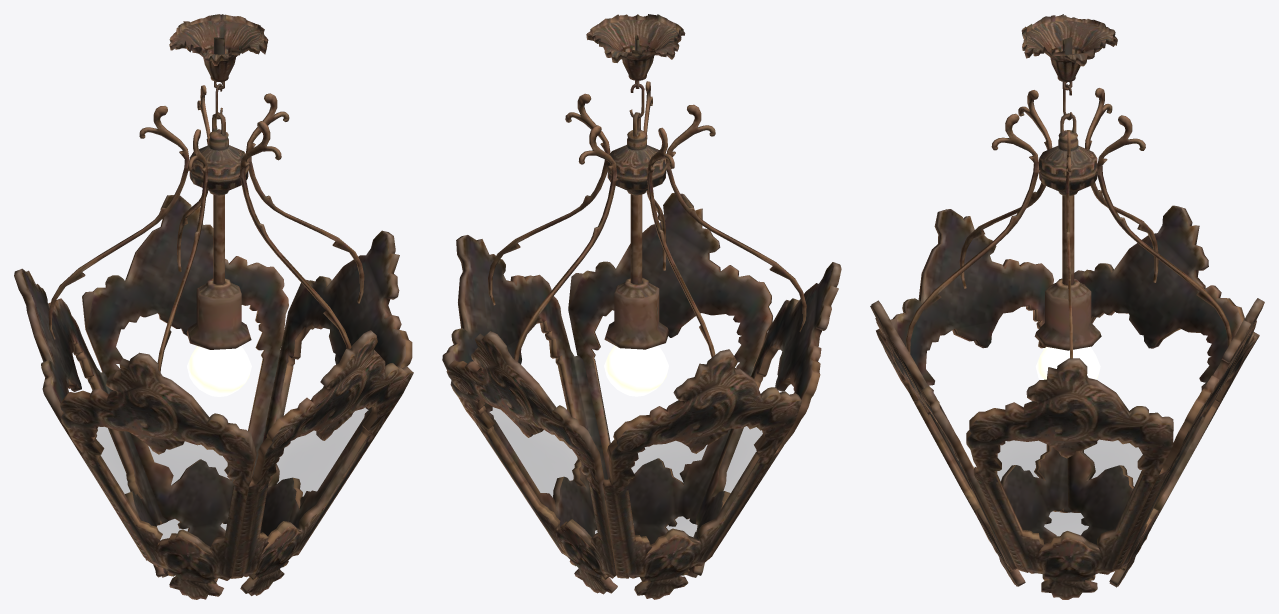
File: lantern_chandelier_01.glb
The picture shows the model from 3 angles, left to right: view 1: azimuth 30°, elevation 25°; view 2: azimuth 150°, elevation 25°; view 3: azimuth 270°, elevation 25°; orthographic projection.
Visible parts, largest first — view 1: lantern_chandelier_01; view 2: lantern_chandelier_01; view 3: lantern_chandelier_01.
Part boxes in pixels (bbox=[...]): lantern_chandelier_01: bbox=[14, 14, 413, 599]; lantern_chandelier_01: bbox=[442, 14, 841, 599]; lantern_chandelier_01: bbox=[870, 14, 1264, 599].
Size of the model in its own units: 0.5792 by 0.8776 by 0.5746.
Materials: 3 (2 with a texture image).
